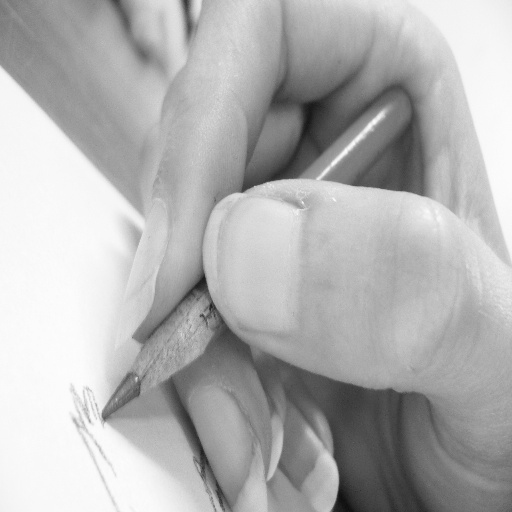hand: (61, 52, 512, 490)
